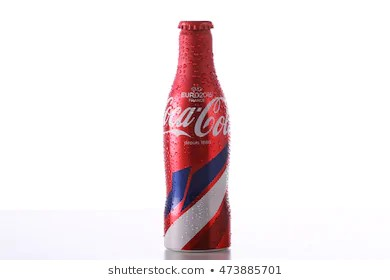coke-bottle-300ml: (158, 15, 240, 263)
